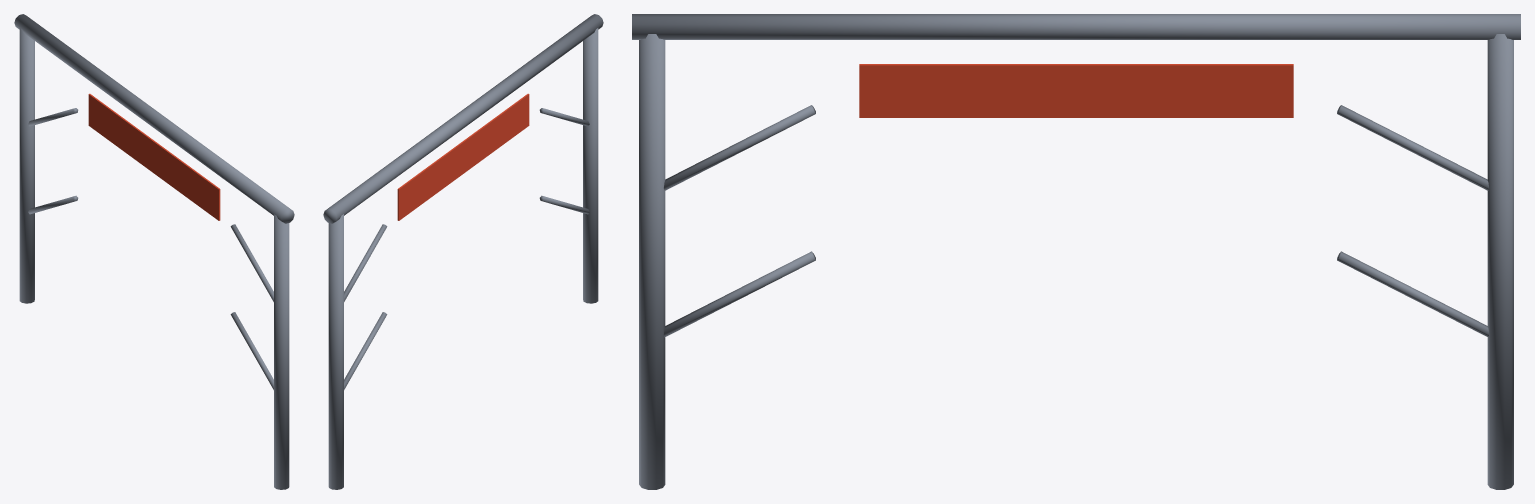
The model's file is prop_gantry.obj.
The picture shows the model from 3 angles, left to right: view 1: azimuth 30°, elevation 25°; view 2: azimuth 150°, elevation 25°; view 3: azimuth 270°, elevation 25°; orthographic projection. The views are drawn at different scales.
Parts seen in each view (by area): view 1: Gantry; view 2: Gantry; view 3: Gantry.
Boxes of the visible parts, x1,y1,x2,y2 form: Gantry: [14, 14, 294, 489]; Gantry: [323, 14, 603, 489]; Gantry: [632, 14, 1520, 489].
Bounding box in the file's own units: 0.26 × 5.12 × 8.8.
